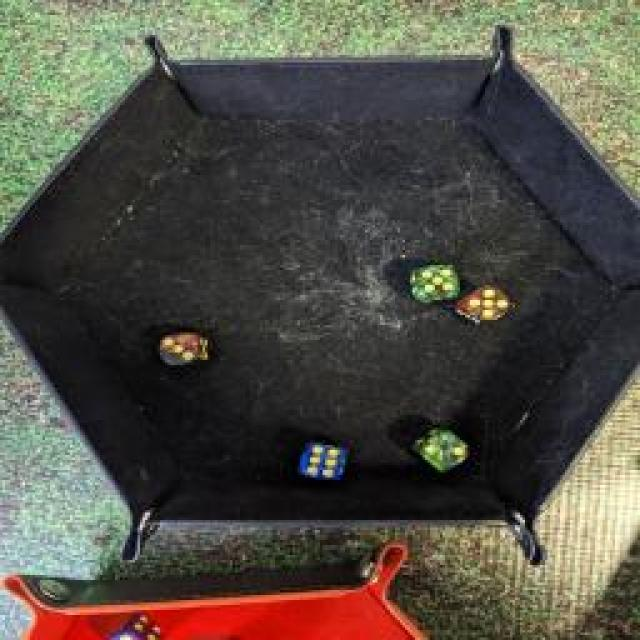dice_2: (410, 426, 470, 482)
dice_3: (156, 331, 216, 371)
dice_5: (453, 282, 515, 328), (411, 257, 461, 305)
dice_6: (289, 436, 359, 486)
